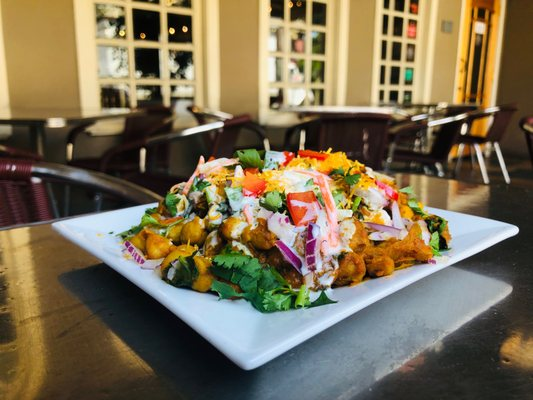curry: (0, 181, 507, 399)
pasta: (449, 105, 514, 185), (310, 115, 392, 171), (518, 115, 533, 171)
sandwich: (107, 148, 453, 312)
